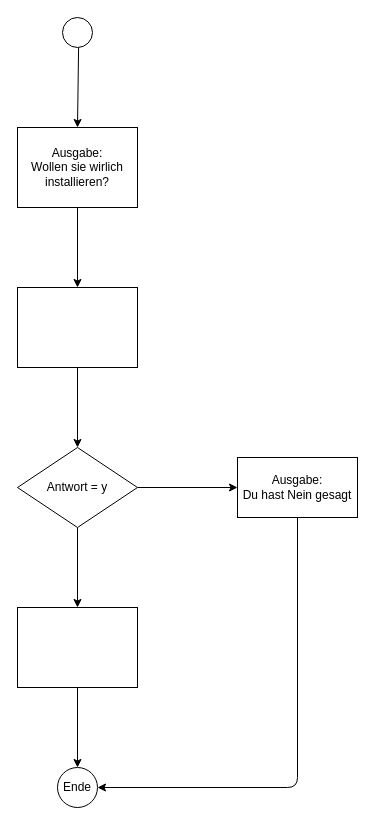
Image size: 375x825. Some labels were removed from this diagram. The centre of each missing label's shape, as x and y in pixels:
"Ausgabe: Du hast Ja gesagt" goes at pixel 77 647.
"Eingabe: Antwort" goes at pixel 77 327.
